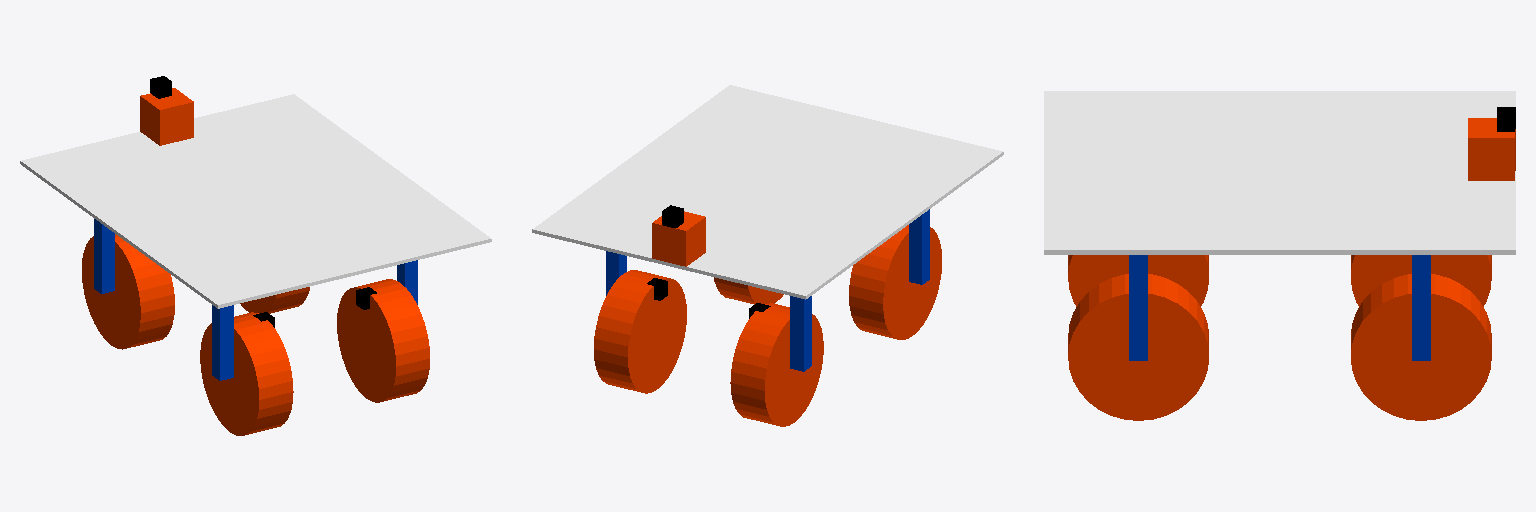
robot.urdf — ros_robot:
<?xml version="1.0"?>
<!-- In this version fixed joint are changed by revolute joint with 0 limit-->
<!-- Issue on handling fixed joint during simulation in gazebo-->
<robot name="ros_robot" xmlns:myrobot="http://test.org/test">

	<!-- Gazebo Pluglin -->

	<!-- gazebo <-> ros control plugin -->	
	<gazebo>
		<plugin filename="libgazebo_ros_control.dylib" name="gazebo_ros_control">
			<robotNamespace>/ros_robot</robotNamespace>
            <robotSimType>gazebo_ros_control/DefaultRobotHWSim</robotSimType>
		</plugin>
	</gazebo>

	<!-- Gazebo color -->
	<gazebo reference="base">
		<material>Gazebo/White</material>
	</gazebo>
	<gazebo reference="rotate1">
		<material>Gazebo/Blue</material>
	</gazebo>
	<gazebo reference="rotate2">
		<material>Gazebo/Blue</material>
	</gazebo>
	<gazebo reference="rotate3">
		<material>Gazebo/Blue</material>
	</gazebo>
	<gazebo reference="rotate4">
		<material>Gazebo/Blue</material>
	</gazebo>
	<gazebo reference="wheel1">
		<material>Gazebo/Orange</material>
		<mu1>0.2</mu1>
		<mu2>0.2</mu2>	
	</gazebo>
	<gazebo reference="wheel2">
		<material>Gazebo/Orange</material>
		<mu1>0.2</mu1>
		<mu2>0.2</mu2>	
	</gazebo>
	<gazebo reference="wheel3">
		<material>Gazebo/Orange</material>
		<mu1>0.2</mu1>
		<mu2>0.2</mu2>	
	</gazebo>
	<gazebo reference="wheel4">
		<material>Gazebo/Orange</material>
		<mu1>0.2</mu1>
		<mu2>0.2</mu2>	
	</gazebo>
	<gazebo reference="marker1">
		<material>Gazebo/Black</material>
	</gazebo>
	<gazebo reference="marker2">
		<material>Gazebo/Black</material>
	</gazebo>
	<gazebo reference="marker3">
		<material>Gazebo/Black</material>
	</gazebo>
	<gazebo reference="marker4">
		<material>Gazebo/Black</material>
	</gazebo>
    <gazebo reference="camera_base">
        <material>Gazebo/Red</material>
    </gazebo>
	<gazebo reference="camera_link">
        <material>Gazebo/Green</material>
    </gazebo>
    
	<!-- URDF color description-->
	<material name="white">
		<color rgba="1 1 1 1"/>
	</material>
	<material name="blue">
		<color rgba="0 0.3 0.8 0.8"/>
	</material>
	<material name="red">
		<color rgba="1 0.3 0 1"/>
	</material>
	<material name="black">
		<color rgba="0 0 0 1"/>
	</material>

	<!-- URDF link desription-->

    <link name="world"/>

    <joint name="worldjoint" type="floating">
        <parent link="world"/>
        <child link="base"/>
        <origin xyz="0 0 0.19" rpy="0 0 0"/>
    </joint>

    <!-- world test -->

	<link name="base">
		<visual>
			<geometry>
				<box size="0.4 0.5 0.005"/>
			</geometry>
            <origin xyz="0 0 0" rpy="0 0 0"/>
			<material name="white"/>
		</visual>
		<inertial>
			<mass value="2.7"/>
			<inertia ixx="0.0366" iyy="0.057" izz="0.0923" ixy="0.0" ixz="0.0" iyz="0.0"/>
		</inertial>
		<collision>
			<geometry>
				<box size="0.4 0.5 0.005"/>
			</geometry>
		</collision>
	</link>

	<link name="rotate1_1">
		<visual>
			<geometry>
				<box size="0.05 0.02 0.02"/>
			</geometry>
            <origin xyz="0 0 -0.01"/>
			<material name="blue"/>
		</visual>
		<inertial>
			<mass value="0.01"/>
			<inertia ixx="0.001" iyy="0.001" izz="0.001" ixy="0.0" ixz="0.0" iyz="0.0"/>
		</inertial>
        <collision>
            <geometry>
                <box size="0.05 0.02 0.02"/>
            </geometry>
            <origin xyz="0 0 -0.01"/>
        </collision>
	</link>

    <link name="rotate1_2">
        <visual>
            <geometry>
                <box size="0.02 0.02 0.15"/>
            </geometry>
            <origin xyz="0.01 0 -0.065"/>
            <material name="blue"/>
        </visual>
        <inertial>
			<mass value="0.01"/>
			<inertia ixx="0.001" iyy="0.001" izz="0.001" ixy="0.0" ixz="0.0" iyz="0.0"/>
		</inertial>
        <collision>
            <geometry>
                <box size="0.02 0.02 0.15"/>
            </geometry>
            <origin xyz="0.01 0 -0.065"/>
            <contact_coefficients mu="0.001"/>
        </collision>
    </link>

    <link name="rotate2_1">
        <visual>
            <geometry>
                <box size="0.05 0.02 0.02"/>
            </geometry>
            <origin xyz="0 0 -0.01"/>
            <material name="blue"/>
        </visual>
        <inertial>
            <mass value="0.01"/>
            <inertia ixx="0.001" iyy="0.001" izz="0.001" ixy="0.0" ixz="0.0" iyz="0.0"/>
        </inertial>
        <collision>
            <geometry>
                <box size="0.05 0.02 0.02"/>
            </geometry>
            <origin xyz="0 0 -0.01"/>
        </collision>
    </link>

    <link name="rotate2_2">
        <visual>
            <geometry>
                <box size="0.02 0.02 0.15"/>
            </geometry>
            <origin xyz="-0.01 0 -0.065"/>
            <material name="blue"/>
        </visual>
        <inertial>
            <mass value="0.01"/>
            <inertia ixx="0.001" iyy="0.001" izz="0.001" ixy="0.0" ixz="0.0" iyz="0.0"/>
        </inertial>
        <collision>
            <geometry>
                <box size="0.02 0.02 0.15"/>
            </geometry>
            <origin xyz="-0.01 0 -0.065"/>
            <contact_coefficients mu="0.001"/>
        </collision>
    </link>

    <link name="rotate3_1">
        <visual>
            <geometry>
                <box size="0.05 0.02 0.02"/>
            </geometry>
            <origin xyz="0 0 -0.01"/>
            <material name="blue"/>
        </visual>
        <inertial>
            <mass value="0.01"/>
            <inertia ixx="0.001" iyy="0.001" izz="0.001" ixy="0.0" ixz="0.0" iyz="0.0"/>
        </inertial>
        <collision>
            <geometry>
                <box size="0.05 0.02 0.02"/>
            </geometry>
            <origin xyz="0 0 -0.01"/>
        </collision>
    </link>

    <link name="rotate3_2">
        <visual>
            <geometry>
                <box size="0.02 0.02 0.15"/>
            </geometry>
            <origin xyz="-0.01 0 -0.065"/>
            <material name="blue"/>
        </visual>
        <inertial>
            <mass value="0.01"/>
            <inertia ixx="0.001" iyy="0.001" izz="0.001" ixy="0.0" ixz="0.0" iyz="0.0"/>
        </inertial>
        <collision>
            <geometry>
                <box size="0.02 0.02 0.15"/>
            </geometry>
            <origin xyz="-0.01 0 -0.065"/>
            <contact_coefficients mu="0.001"/>
        </collision>
    </link>

    <link name="rotate4_1">
        <visual>
            <geometry>
                <box size="0.05 0.02 0.02"/>
            </geometry>
            <origin xyz="0 0 -0.01"/>
            <material name="blue"/>
        </visual>
        <inertial>
            <mass value="0.01"/>
            <inertia ixx="0.001" iyy="0.001" izz="0.001" ixy="0.0" ixz="0.0" iyz="0.0"/>
        </inertial>
        <collision>
            <geometry>
                <box size="0.05 0.02 0.02"/>
            </geometry>
            <origin xyz="0 0 -0.01"/>
        </collision>
    </link>

    <link name="rotate4_2">
        <visual>
            <geometry>
                <box size="0.02 0.02 0.15"/>
            </geometry>
            <origin xyz="0.01 0 -0.065"/>
            <material name="blue"/>
        </visual>
        <inertial>
            <mass value="0.01"/>
            <inertia ixx="0.001" iyy="0.001" izz="0.001" ixy="0.0" ixz="0.0" iyz="0.0"/>
        </inertial>
        <collision>
            <geometry>
                <box size="0.02 0.02 0.15"/>
            </geometry>
            <origin xyz="0.01 0 -0.065"/>
            <contact_coefficients mu="0.001"/>
        </collision>
    </link>


	<link name="wheel1">
		<visual>
			<geometry>
				<cylinder length="0.05" radius="0.075"/>
			</geometry>
			<origin xyz="0 0 0" rpy="0 0 0" />
			<material name="red"/>
		</visual>
		<inertial>
			<mass value="1.0"/>
			<inertia ixx="0.003" iyy="0.01" izz="0.01" ixy="0.0" ixz="0.0" iyz="0.0"/>
		</inertial>
		<collision>
			<geometry>
				<cylinder length="0.05" radius="0.075"/>
				<!--origin xyz="0 0 0" rpy="0 1.57 0"/-->
			</geometry>
			<contact_coefficients mu="0.001"/>
		</collision>
	</link>

	<link name="wheel2">
		<visual>
			<geometry>
				<cylinder length="0.05" radius="0.075"/>
			</geometry>
			<origin xyz="0 0 0" rpy="0 0 0" />
			<material name="red"/>
		</visual>
		<inertial>
			<mass value="1.0"/>
			<inertia ixx="0.003" iyy="0.01" izz="0.01" ixy="0.0" ixz="0.0" iyz="0.0"/>
		</inertial>
		<collision>
			<geometry>
				<cylinder length="0.05" radius="0.075"/>
			</geometry>
			<contact_coefficients mu="0.001"/>
		</collision>
	</link>

	<link name="wheel3">
		<visual>
			<geometry>
				<cylinder length="0.05" radius="0.075"/>
			</geometry>
			<origin xyz="0 0 0" rpy="0 0 0" />
			<material name="red"/>
		</visual>
		<inertial>
			<mass value="1.0"/>
			<inertia ixx="0.003" iyy="0.01" izz="0.01" ixy="0.0" ixz="0.0" iyz="0.0"/>
		</inertial>
		<collision>
			<geometry>
				<cylinder length="0.05" radius="0.075"/>
			</geometry>
			<contact_coefficients mu="0.001"/>
		</collision>
	</link>

	<link name="wheel4">
		<visual>
			<geometry>
				<cylinder length="0.05" radius="0.075"/>
			</geometry>
			<origin xyz="0 0 0" rpy="0 0 0" />
			<material name="red"/>
		</visual>
		<inertial>
			<mass value="1.0"/>
			<inertia ixx="0.003" iyy="0.01" izz="0.01" ixy="0.0" ixz="0.0" iyz="0.0"/>
		</inertial>
		<collision>
			<geometry>
				<cylinder length="0.05" radius="0.075"/>
				<!--<origin xyz="0 0 0" rpy="0 1.57 0"/>-->
			</geometry>
			<contact_coefficients mu="0.001"/>
		</collision>
	</link>


	<!-- URDF joint description -->
	<joint name="body_rotate1" type="continuous">
		<parent link="base"/>
		<child link="rotate1_1"/>
		<origin xyz="0.10 0.15 -0.0025" rpy="0 0 0"/>
		<axis xyz="0 0 1"/>
	</joint>
	
    <joint name="rotate1_fix" type="fixed">
        <parent link="rotate1_1"/>
        <child link="rotate1_2"/>
        <origin xyz="0.025 0 -0.01"/>
    </joint>
    
    <joint name="body_rotate2" type="continuous">
		<parent link="base"/>
		<child link="rotate2_1"/>
		<origin xyz="-0.10 0.15 -0.0025" rpy="0 0 0"/>
		<axis xyz="0 0 1"/>
	</joint>
	
    <joint name="rotate2_fix" type="fixed">
        <parent link="rotate2_1"/>
        <child link="rotate2_2"/>
        <origin xyz="-0.025 0 -0.01"/>
    </joint>
    
    <joint name="body_rotate3" type="continuous">
		<parent link="base"/>
		<child link="rotate3_1"/>
		<origin xyz="-0.10 -0.15 -0.0025" rpy="0 0 0"/>
		<axis xyz="0 0 1"/>
	</joint>
	
    <joint name="rotate3_fix" type="fixed">
        <parent link="rotate3_1"/>
        <child link="rotate3_2"/>
        <origin xyz="-0.025 0 -0.01"/>
    </joint>

    <joint name="body_rotate4" type="continuous">
        <parent link="base"/>
        <child link="rotate4_1"/>
        <origin xyz="0.10 -0.15 -0.0025" rpy="0 0 0"/>
        <axis xyz="0 0 1"/>
    </joint>

    <joint name="rotate4_fix" type="fixed">
        <parent link="rotate4_1"/>
        <child link="rotate4_2"/>
        <origin xyz="0.025 0 -0.01"/>
    </joint>


	<joint name="wheel_1" type="continuous">
		<parent link="rotate1_2"/>
		<child link="wheel1"/>
		<origin xyz="-0.025 0 -0.145" rpy="0 1.57 0"/>
		<axis xyz="0 0 -1"/>
	</joint>

	<joint name="wheel_2" type="continuous">
		<parent link="rotate2_2"/>
		<child link="wheel2"/>
		<origin xyz="0.025 0 -0.145" rpy="0 1.57 0"/>
		<axis xyz="0 0 -1"/>
	</joint>

	<joint name="wheel_3" type="continuous">
		<parent link="rotate3_2"/>
		<child link="wheel3"/>
		<origin xyz="0.025 0 -0.145" rpy="0 1.57 0"/>
		<axis xyz="0 0 -1"/>
	</joint>

	<joint name="wheel_4" type="continuous">
		<parent link="rotate4_2"/>
		<child link="wheel4"/>
		<origin xyz="-0.025 0 -0.145" rpy="0 1.57 0"/>
		<axis xyz="0 0 -1"/>
	</joint>

	<!-- Transmission Plugin -->

	<transmission name="trans_body1">
		<!--<type>transmission_interface/SimpleTransmission</type>-->
        <type>transmission_interface/SimpleTransmission</type>
		<joint name="body_rotate1">

        </joint>
		<actuator name="motor_body1">
			<hardwareInterface>EffortJointInterface</hardwareInterface>
			<mechanicalReduction>1</mechanicalReduction>
		</actuator>
	</transmission>

	<transmission name="trans_body2">
		<!--<type>transmission_interface/SimpleTransmission</type>-->
        <type>transmission_interface/SimpleTransmission</type>
		<joint name="body_rotate2">

        </joint>
		<actuator name="motor_body2">
			<hardwareInterface>EffortJointInterface</hardwareInterface>
			<mechanicalReduction>1</mechanicalReduction>
		</actuator>
	</transmission>

	<transmission name="trans_body3">
		<type>transmission_interface/SimpleTransmission</type>
		<joint name="body_rotate3">

        </joint>
		<actuator name="motor_body3">
			<hardwareInterface>EffortJointInterface</hardwareInterface>
			<mechanicalReduction>1</mechanicalReduction>
		</actuator>
	</transmission>

	<transmission name="trans_body4">
		<type>transmission_interface/SimpleTransmission</type>
		<joint name="body_rotate4">

        </joint>
		<actuator name="motor_body4">
			<hardwareInterface>EffortJointInterface</hardwareInterface>
			<mechanicalReduction>1</mechanicalReduction>
		</actuator>
	</transmission>

	<transmission name="trans_wheel1">
		<type>transmission_interface/SimpleTransmission</type>
		<joint name="wheel_1">

        </joint>
		<actuator name="motor_wheel1">
			<hardwareInterface>EffortJointInterface</hardwareInterface>
			<mechanicalReduction>1</mechanicalReduction>
		</actuator>
	</transmission>

	<transmission name="trans_wheel2">
		<type>transmission_interface/SimpleTransmission</type>
		<joint name="wheel_2">

        </joint>
		<actuator name="motor_wheel2">
			<hardwareInterface>EffortJointInterface</hardwareInterface>
			<mechanicalReduction>1</mechanicalReduction>
		</actuator>
	</transmission>

	<transmission name="trans_wheel3">
		<type>transmission_interface/SimpleTransmission</type>
		<joint name="wheel_3">

        </joint>
		<actuator name="motor_wheel3">
			<hardwareInterface>EffortJointInterface</hardwareInterface>
			<mechanicalReduction>1</mechanicalReduction>
		</actuator>
	</transmission>

	<transmission name="trans_wheel4">
		<type>transmission_interface/SimpleTransmission</type>
		<joint name="wheel_4">

        </joint>
		<actuator name="motor_wheel4">
			<hardwareInterface>EffortJointInterface</hardwareInterface>
			<mechanicalReduction>1</mechanicalReduction>
		</actuator>
	</transmission>

	<!-- Markers are for better visualization -->
	<link name="marker1">
		<visual>
			<geometry>
				<box size="0.02 0.02 0.02"/>
			</geometry>
			<material name="black"/>
		</visual>
		<inertial>
			<mass value="0.0001"/>
			<inertia ixx="0.0001" iyy="0.0001" izz="0.0001" ixy="0.0" ixz="0.0" iyz="0.0"/>
		</inertial>
	</link>
	<link name="marker2">
		<visual>
			<geometry>
				<box size="0.02 0.02 0.02"/>
			</geometry>
			<material name="black"/>
		</visual>
		<inertial>
			<mass value="0.0001"/>
			<inertia ixx="0.0001" iyy="0.0001" izz="0.0001" ixy="0.0" ixz="0.0" iyz="0.0"/>
		</inertial>
	</link>
	<link name="marker3">
		<visual>
			<geometry>
				<box size="0.02 0.02 0.02"/>
			</geometry>
			<material name="black"/>
		</visual>
		<inertial>
			<mass value="0.0001"/>
			<inertia ixx="0.0001" iyy="0.0001" izz="0.0001" ixy="0.0" ixz="0.0" iyz="0.0"/>
		</inertial>
	</link>
	<link name="marker4">
		<visual>
			<geometry>
				<box size="0.02 0.02 0.02"/>
			</geometry>
			<material name="black"/>
		</visual>
		<inertial>
			<mass value="0.0001"/>
			<inertia ixx="0.0001" iyy="0.0001" izz="0.0001" ixy="0.0" ixz="0.0" iyz="0.0"/>
		</inertial>
	</link>

	<!-- Marker Joint -->
	<joint name="wheelmaker1" type="fixed">
		<parent link="wheel1"/>
		<child link="marker1"/>
		<origin xyz="-0.065 0 -0.025" rpy="0 0 0"/>
	</joint>	
	<joint name="wheelmaker2" type="fixed">
		<parent link="wheel2"/>
		<child link="marker2"/>
		<origin xyz="-0.065 0 0.025" rpy="0 0 0"/>
	</joint>	
	<joint name="wheelmaker3" type="fixed">
		<parent link="wheel3"/>
		<child link="marker3"/>
		<origin xyz="-0.065 0 0.025" rpy="0 0 0"/>
	</joint>	
	<joint name="wheelmaker4" type="fixed">
		<parent link="wheel4"/>
		<child link="marker4"/>
		<origin xyz="-0.065 0 -0.025" rpy="0 0 0"/>
	</joint>

    <!-- Camera Joint -->
    <joint name="camera_base_joint" type="fixed">
        <parent link="base"/>
        <child link="camera_base"/>
        <origin xyz="0 0.225 0.0275" rpy="0 0 1.57"/>
    </joint>
    
    <joint name="camera_joint" type="fixed">
        <parent link="camera_base"/>
        <child link="camera_link"/>
        <origin xyz="0.015 0 0.035" rpy="0 0 0"/>
    </joint>
    <!-- Camera Link -->
    <link name="camera_base">
        <collision>
            <origin xyz="0 0 0" rpy="0 0 0"/>
            <geometry>
                <box size="0.05 0.05 0.05"/>
            </geometry>
        </collision>
        <visual>
            <origin xyz="0 0 0" rpy="0 0 0"/>
            <geometry>
                <box size="0.05 0.05 0.05"/>
            </geometry>
            <material name="red"/>
        </visual>
        <inertial>
            <mass value="1e-5" />
            <origin xyz="0 0 0" rpy="0 0 0"/>
            <inertia ixx="1e-6" ixy="0" ixz="0" iyy="1e-6" iyz="0" izz="1e-6" />
        </inertial>
    </link>
    
    <link name="camera_link">
        <collision>
            <origin xyz="0 0 0" rpy="0 0 0"/>
            <geometry>
                <box size="0.02 0.02 0.02"/>
            </geometry>
        </collision>
        <visual>
            <origin xyz="0 0 0" rpy="0 0 0"/>
            <geometry>
                <box size="0.02 0.02 0.02"/>
            </geometry>
            <material name="black"/>
        </visual>
        <inertial>
            <mass value="1e-5" />
            <origin xyz="0 0 0" rpy="0 0 0"/>
            <inertia ixx="1e-6" ixy="0" ixz="0" iyy="1e-6" iyz="0" izz="1e-6" />
        </inertial>
    </link>
    
    <!-- camera gazebo plugin -->
    <gazebo reference="camera_link">
        <sensor type="camera" name="camera1">
            <update_rate>30.0</update_rate>
            <camera name="head">
                <horizontal_fov>1.3962634</horizontal_fov>
                <image>
                    <width>640</width>
                    <height>480</height>
                    <format>R8G8B8</format>
                </image>
                <clip>
                    <near>0.02</near>
                    <far>300</far>
                </clip>
                <noise>
                    <type>gaussian</type>
                    <mean>0.0</mean>
                    <stddev>0.007</stddev>
                </noise>
            </camera>
            <plugin name="camera_controller" filename="libgazebo_ros_camera.dylib">
                <alwaysOn>true</alwaysOn>
                <updateRate>0.0</updateRate>
                <cameraName>ros_robot/camera1</cameraName>
                <imageTopicName>image_raw</imageTopicName>
                <cameraInfoTopicName>camera_info</cameraInfoTopicName>
                <frameName>camera_link</frameName>
                <hackBaseline>0.07</hackBaseline>
                <distortionK1>0.0</distortionK1>
                <distortionK2>0.0</distortionK2>
                <distortionK3>0.0</distortionK3>
                <distortionT1>0.0</distortionT1>
                <distortionT2>0.0</distortionT2>
            </plugin>
        </sensor>
    </gazebo>
    
    <!-- Laser range finder plugin -->
    <gazebo reference="camera_base">  <!-- use camera base to serve as lr finder -->
        <sensor type="ray" name="head_hokuyo_sensor">
            <pose>0 0 0 0 0 0</pose>
            <visualize>false</visualize>
            <update_rate>5</update_rate>
            <ray>
                <scan>
                    <horizontal>
                        <samples>720</samples>
                        <resolution>1</resolution>
                        <min_angle>-1.570796</min_angle>
                        <max_angle>1.570796</max_angle>
<!--                    <min_angle>-0.52359877</min_angle>
                    <max_angle>3.66519137</max_angle>  -->

                    </horizontal>
                </scan>
                <range>
                    <min>0.10</min>
                    <max>30.0</max>
                    <resolution>0.01</resolution>
                </range>
                <noise>
                    <type>gaussian</type>
                    <!-- Noise parameters based on published spec for Hokuyo laser
                     achieving "+-30mm" accuracy at range < 10m.  A mean of 0.0m and
                     stddev of 0.01m will put 99.7% of samples within 0.03m of the true
                     reading. -->
                    <mean>0.0</mean>
                    <stddev>0.01</stddev>
                </noise>
            </ray>
            <plugin name="gazebo_ros_head_hokuyo_controller" filename="libgazebo_ros_laser.dylib">
                <topicName>/ros_robot/laser/scan</topicName>
                <frameName>camera_base</frameName>
            </plugin>
        </sensor>
    </gazebo>
</robot>

--- Render facts (derived) ---
The picture shows the robot from 3 angles, left to right: view 1: azimuth 30°, elevation 25°; view 2: azimuth 150°, elevation 25°; view 3: azimuth 270°, elevation 25°; orthographic projection.
Model ros_robot with 20 links and 19 joints (8 continuous, 10 fixed, 1 floating), rooted at world, posed every joint at zero.
Links seen in each view (by area): view 1: base, wheel4, wheel3, wheel2, camera_base, rotate3_2, rotate2_2, wheel1, rotate4_2; view 2: base, wheel1, wheel2, wheel3, camera_base, rotate2_2, rotate3_2, wheel4, rotate1_2; view 3: base, wheel1, wheel4, wheel2, wheel3, camera_base, rotate1_2, rotate4_2.
Boxes of the visible links, left/top/right/bottom form: base: left=20, top=94, right=491, bottom=308; wheel4: left=337, top=279, right=429, bottom=402; wheel3: left=200, top=312, right=293, bottom=435; wheel2: left=82, top=234, right=174, bottom=349; camera_base: left=140, top=88, right=193, bottom=145; rotate3_2: left=212, top=305, right=233, bottom=380; rotate2_2: left=94, top=219, right=114, bottom=293; wheel1: left=240, top=287, right=309, bottom=313; rotate4_2: left=397, top=260, right=417, bottom=304; base: left=532, top=85, right=1003, bottom=299; wheel1: left=594, top=270, right=686, bottom=393; wheel2: left=730, top=303, right=823, bottom=426; wheel3: left=849, top=225, right=941, bottom=339; camera_base: left=652, top=211, right=705, bottom=266; rotate2_2: left=790, top=296, right=811, bottom=371; rotate3_2: left=909, top=209, right=929, bottom=284; wheel4: left=714, top=277, right=783, bottom=304; rotate1_2: left=606, top=251, right=626, bottom=295; base: left=1044, top=91, right=1515, bottom=254; wheel1: left=1351, top=274, right=1491, bottom=420; wheel4: left=1068, top=274, right=1208, bottom=420; wheel2: left=1351, top=255, right=1491, bottom=306; wheel3: left=1068, top=255, right=1208, bottom=306; camera_base: left=1468, top=118, right=1515, bottom=180; rotate1_2: left=1412, top=255, right=1430, bottom=360; rotate4_2: left=1129, top=255, right=1147, bottom=360.
Size in the robot's own frame: 0.4 by 0.5 by 0.305 metres.
Geometry: primitives only (box / cylinder / sphere), no mesh files.
